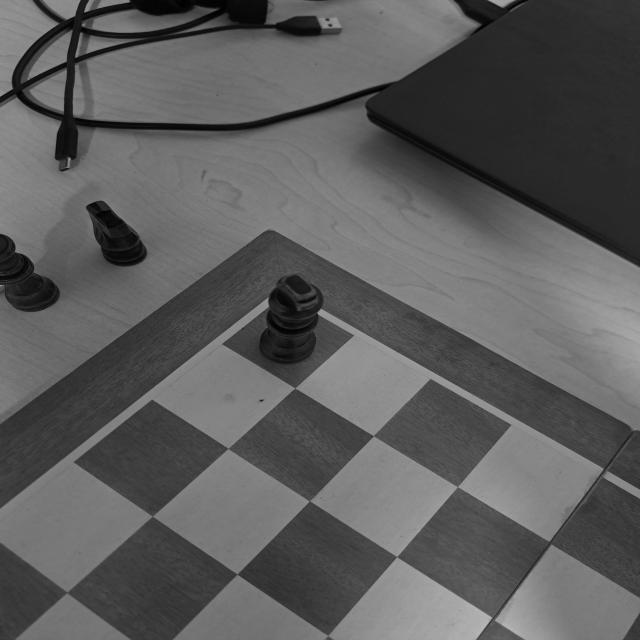chess-table-corners: (234, 275, 342, 327)
